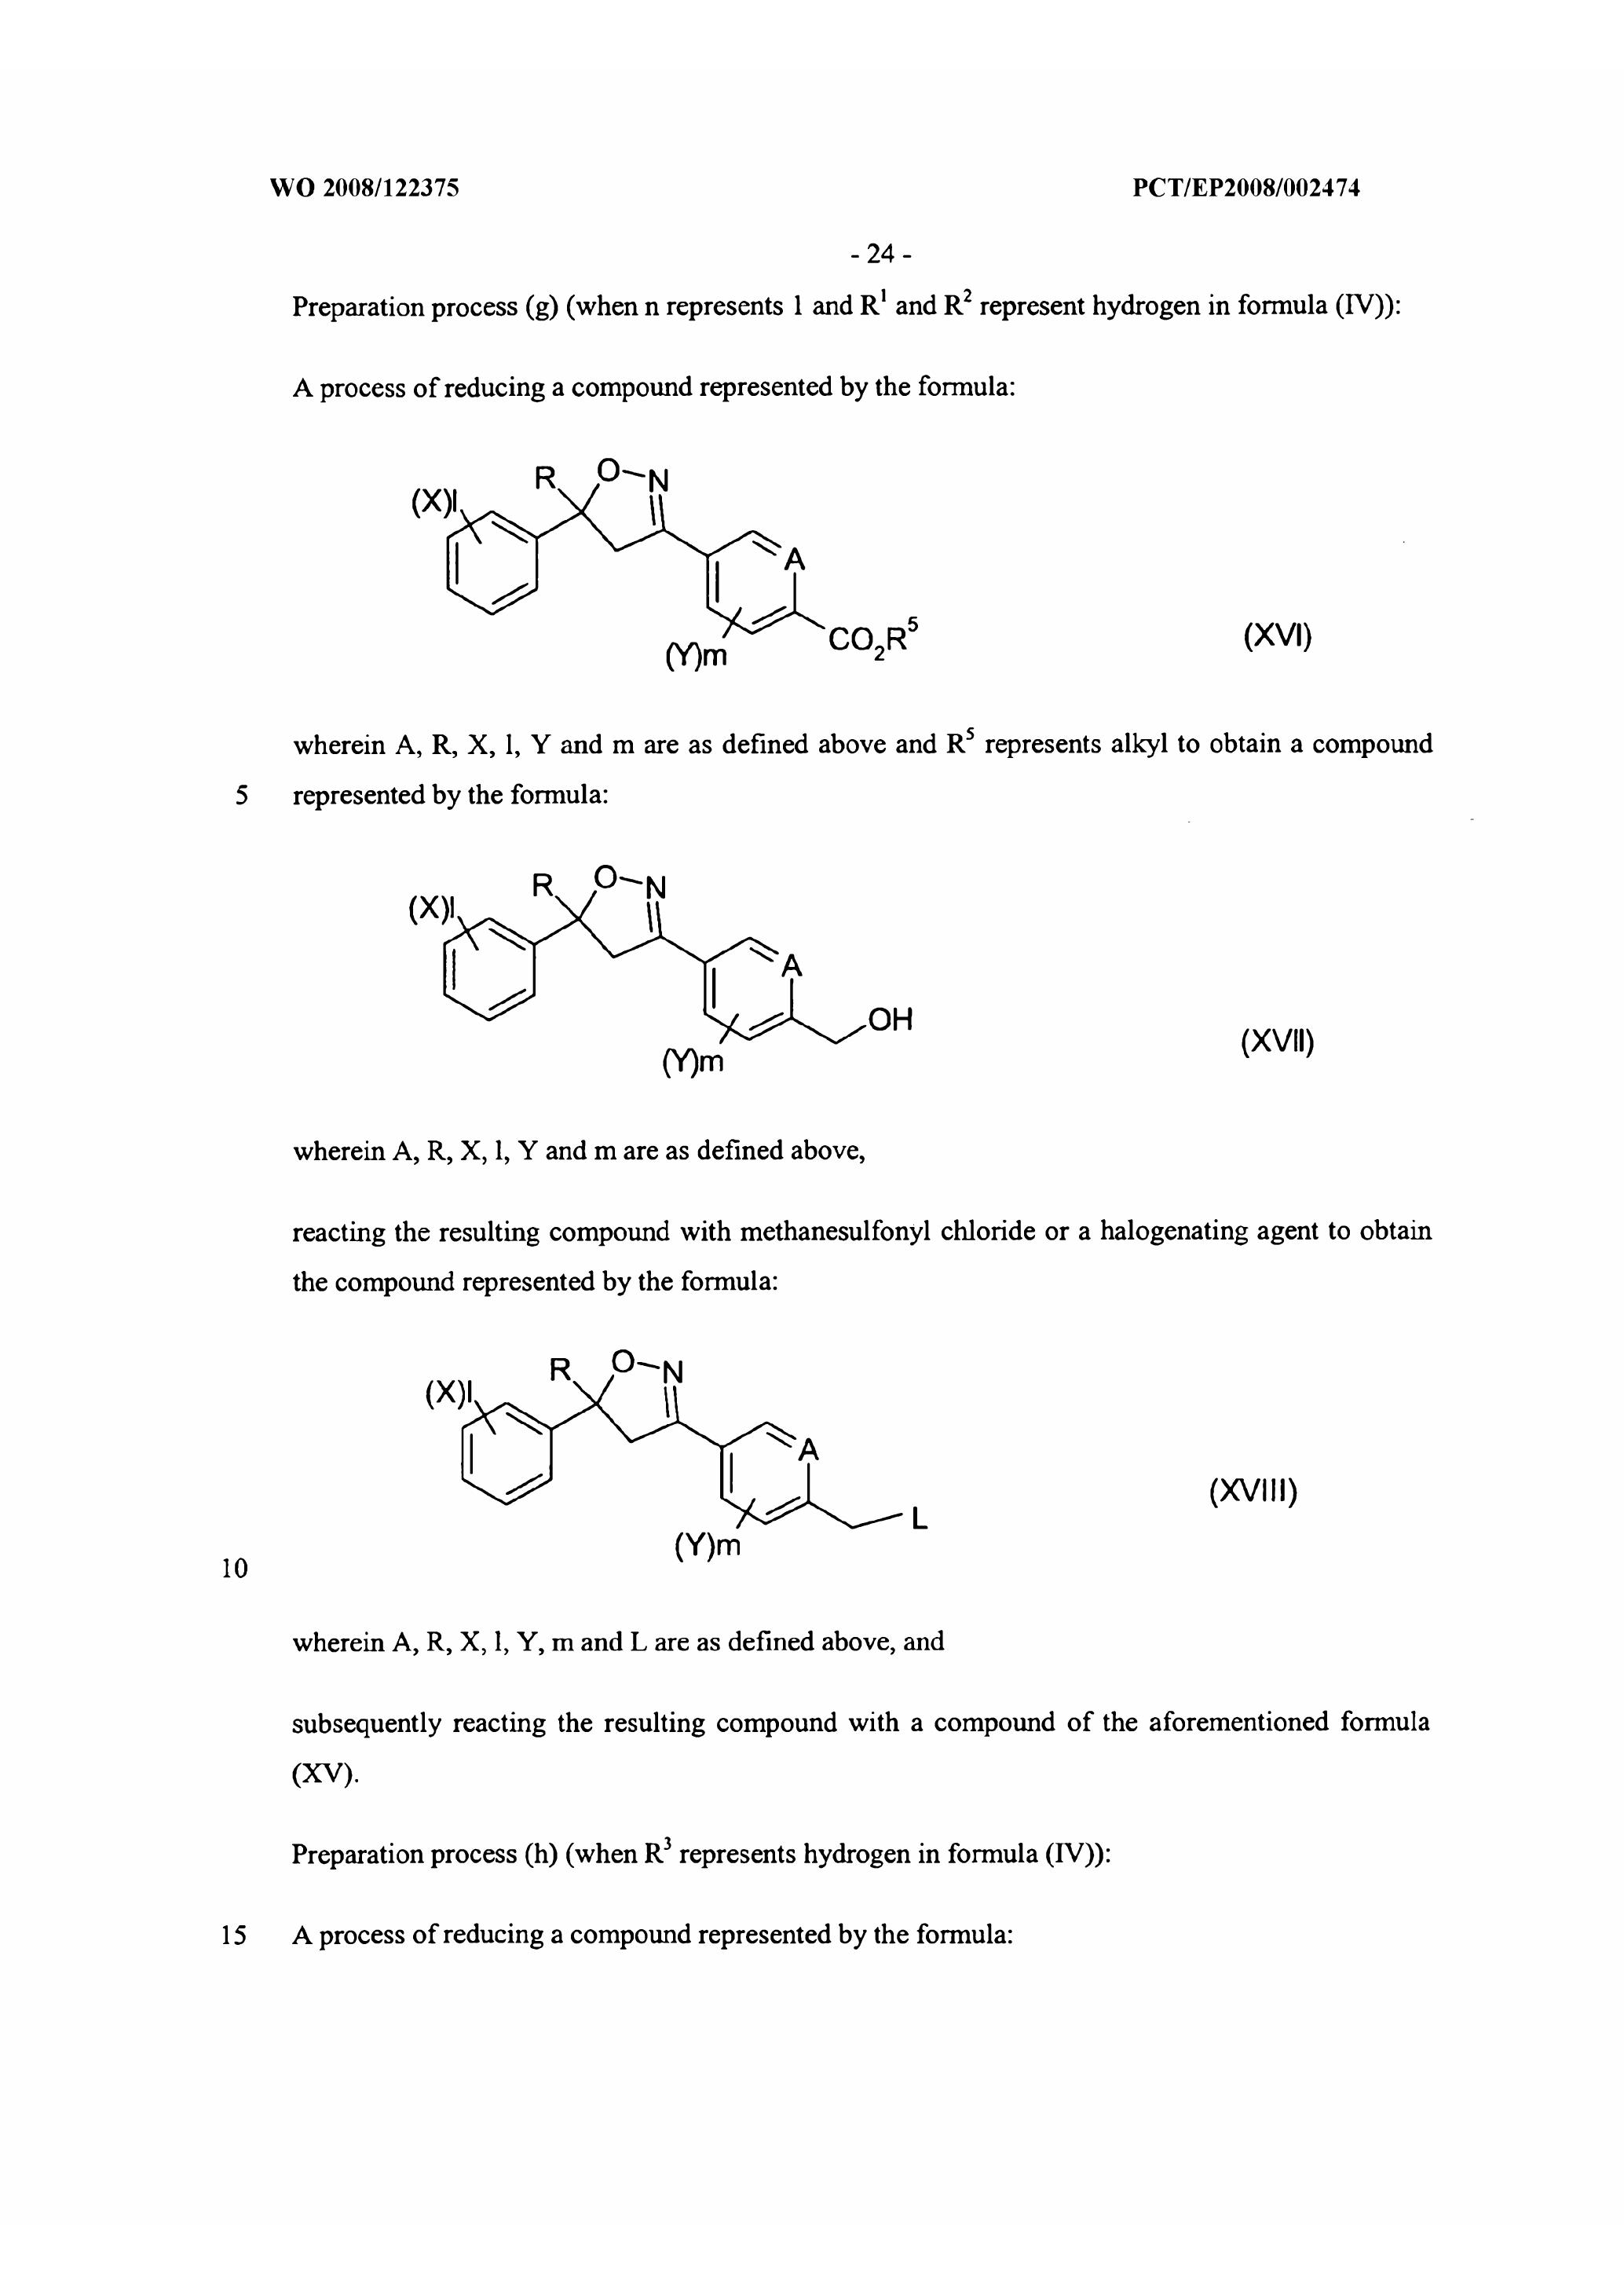reactions: (278, 359, 1443, 772)
